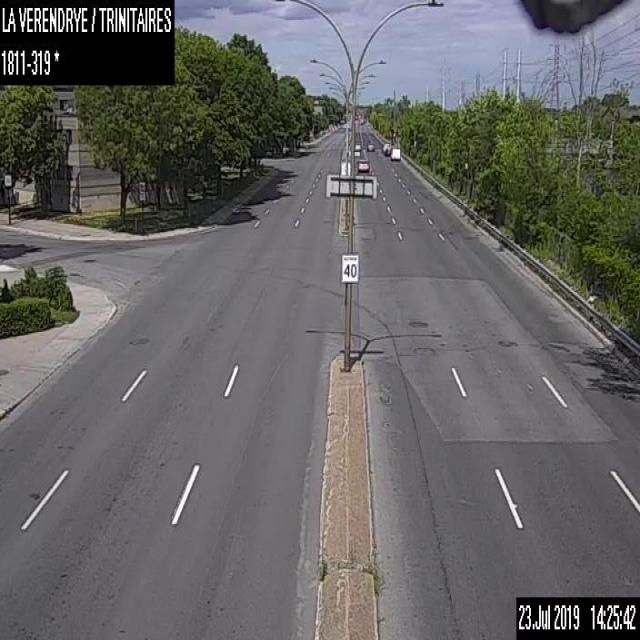vehicle: (384, 145, 400, 159), (357, 158, 370, 171), (382, 142, 390, 152), (366, 144, 374, 151), (354, 142, 361, 150)
